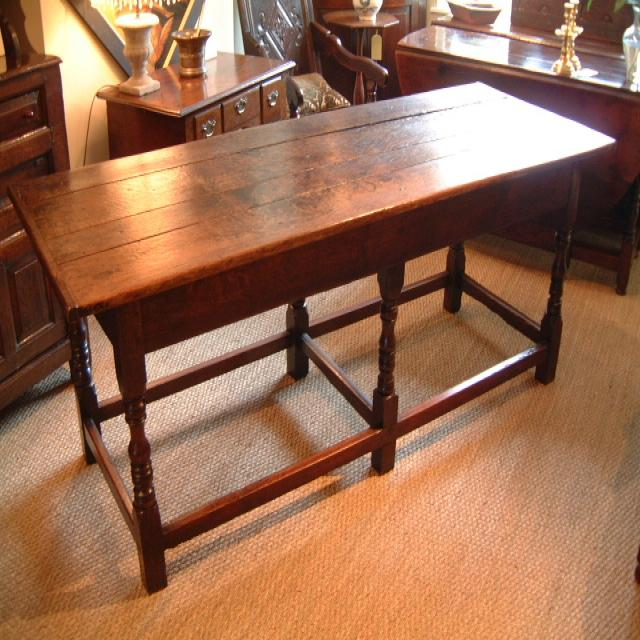table: (6, 72, 618, 597)
